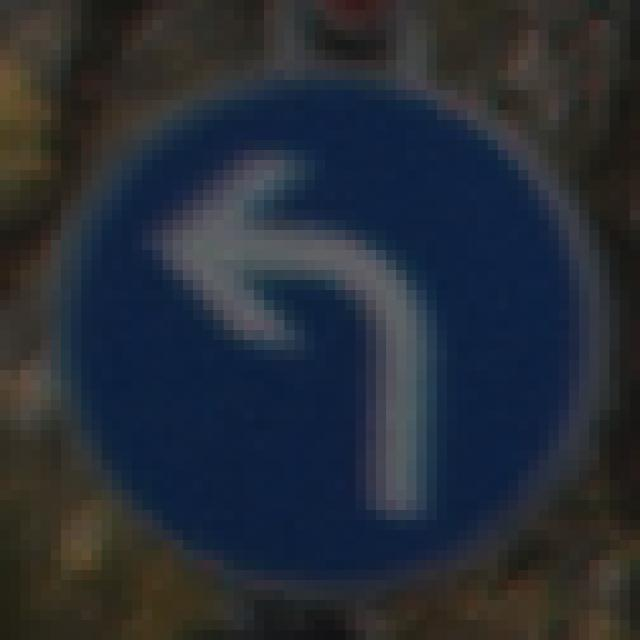compulsary turn left ahead: (62, 64, 614, 597)
